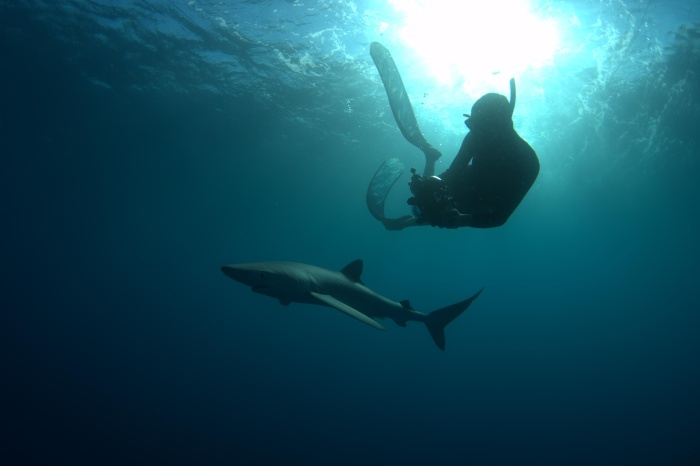Azul: (207, 243, 491, 374)
